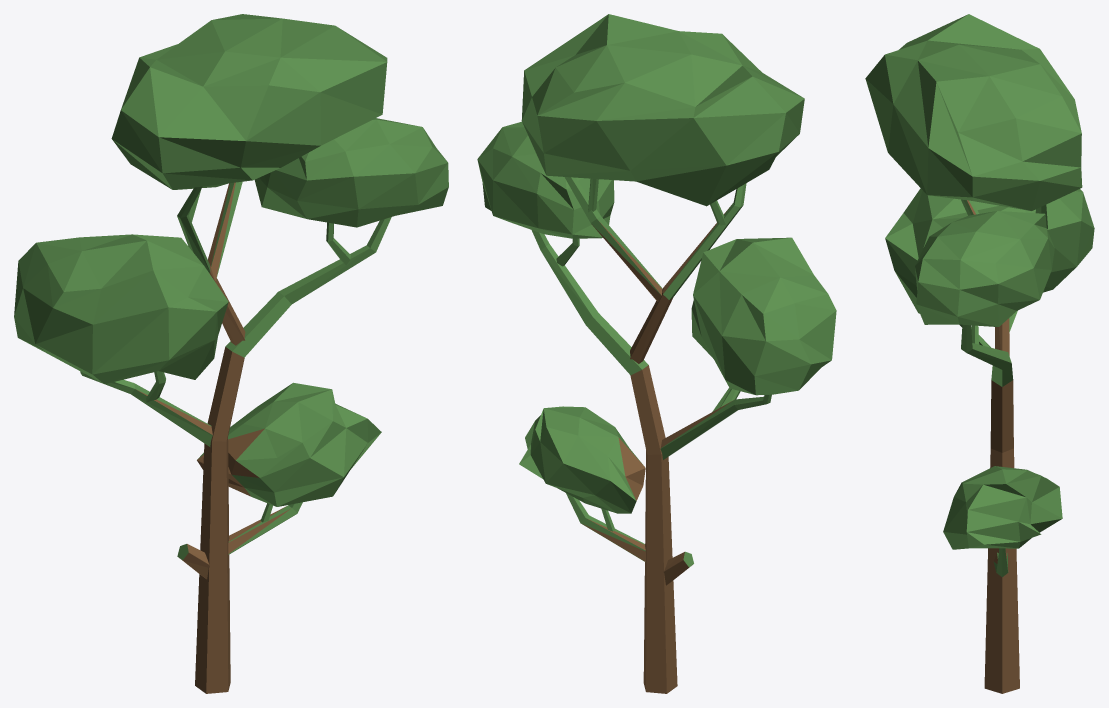
File: tree3d-142.glb
3 renders of one model, left to right at view 1: azimuth 30°, elevation 25°; view 2: azimuth 150°, elevation 25°; view 3: azimuth 270°, elevation 25°, orthographic. The views are drawn at different scales.
Visible parts, largest first — view 1: tree3d-142; view 2: tree3d-142; view 3: tree3d-142.
Boxes of the visible parts, x1=… form: tree3d-142: x1=14, y1=14, x2=448, y2=693; tree3d-142: x1=477, y1=14, x2=836, y2=693; tree3d-142: x1=865, y1=14, x2=1094, y2=693.
Bounding box in the file's own units: 0.6089 × 1 × 0.3217.
